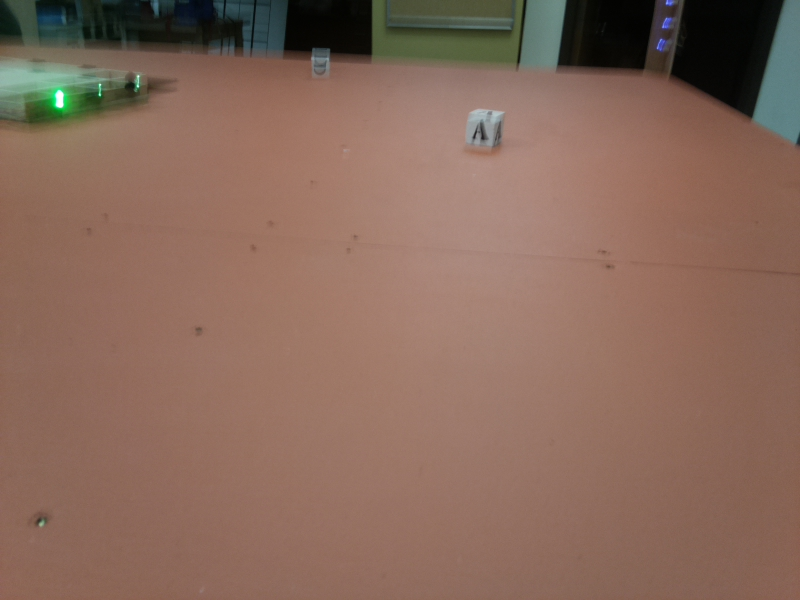blockA: (466, 106, 509, 151)
blockD: (309, 47, 331, 82)
corner: (640, 1, 683, 82)
side: (1, 77, 152, 125)
slope: (146, 67, 178, 97)
